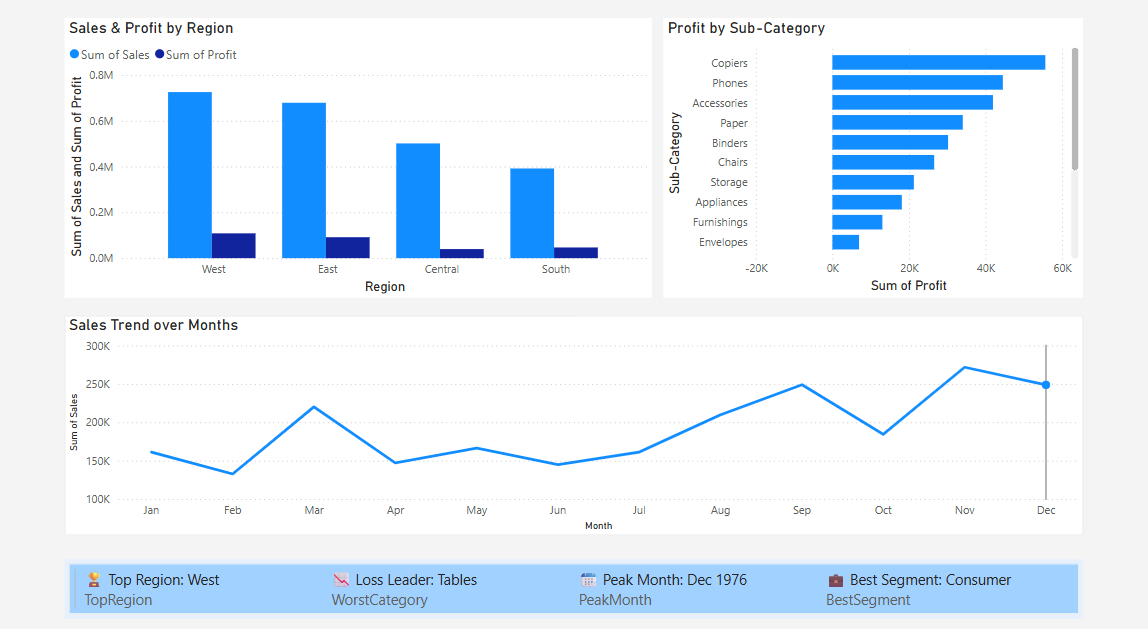

Layout of this report page (visuals, bound fields, positions):
{"tool":"powerbi","page":{"name":"Page 1","canvas":[1280,720],"ordinal":0},"visuals":[{"type":"clusteredColumnChart","title":"Sales & Profit by Region","fields":{"Category":["Sample - Superstore.Region"],"Y":["Sum(Sample - Superstore.Sales)","Sum(Sample - Superstore.Profit)"]},"box":[79.6,32.9,644.9,307.4],"z":0},{"type":"barChart","title":"Profit by Sub-Category","fields":{"Category":["Sample - Superstore.Sub-Category"],"Y":["Sum(Sample - Superstore.Profit)"]},"box":[736.9,32.9,461.1,307.4],"z":1},{"type":"lineChart","title":" Sales Trend over Months  ","fields":{"Category":["Sample - Superstore.Month"],"Y":["Sum(Sample - Superstore.Sales)"]},"box":[79.6,359.5,1118.4,241.5],"z":2},{"type":"multiRowCard","fields":{"Values":["Sample - Superstore.TopRegion","Sample - Superstore.WorstCategory","Sample - Superstore.PeakMonth","Sample - Superstore.BestSegment"]},"box":[79.6,627.1,1118.4,65.9],"z":3}]}

Visuals, with their boxes in screenshot pixels (x1, y1, x2, y2), scaled from the page's 1280x720 canvas onto the 1148x629 screenshot:
"Sales & Profit by Region" clusteredColumnChart: rect(71, 29, 650, 297)
"Profit by Sub-Category" barChart: rect(661, 29, 1074, 297)
" Sales Trend over Months  " lineChart: rect(71, 314, 1074, 525)
multiRowCard - Sample - Superstore.TopRegion x Sample - Superstore.WorstCategory: rect(71, 548, 1074, 605)
